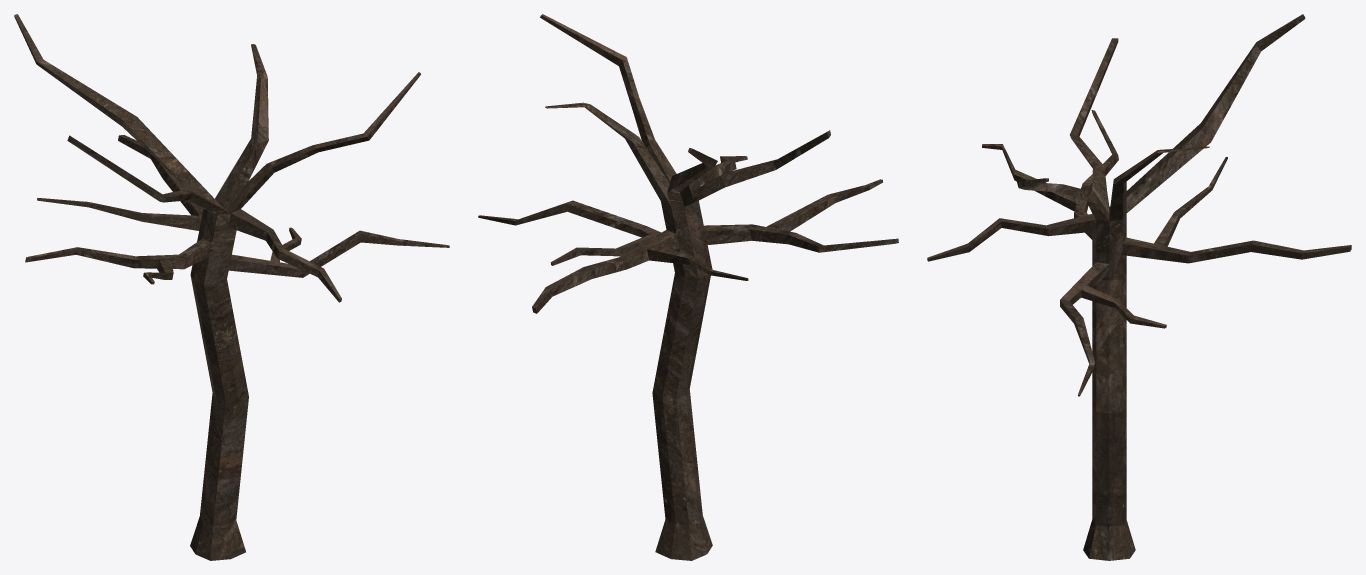
Rendered from Pohon.fbx.
3 views of the same model, side by side, from view 1: azimuth 30°, elevation 25°; view 2: azimuth 150°, elevation 25°; view 3: azimuth 270°, elevation 25° (orthographic). The views are drawn at different scales.
Visible parts, largest first — view 1: Pohon; view 2: Pohon; view 3: Pohon.
Part boxes in pixels (x1=…): Pohon: x1=14, y1=14, x2=449, y2=560; Pohon: x1=478, y1=14, x2=898, y2=560; Pohon: x1=927, y1=14, x2=1351, y2=560.
Bounding box in the file's own units: 981 × 1098 × 870.
Materials: 1 (1 with a texture image).
